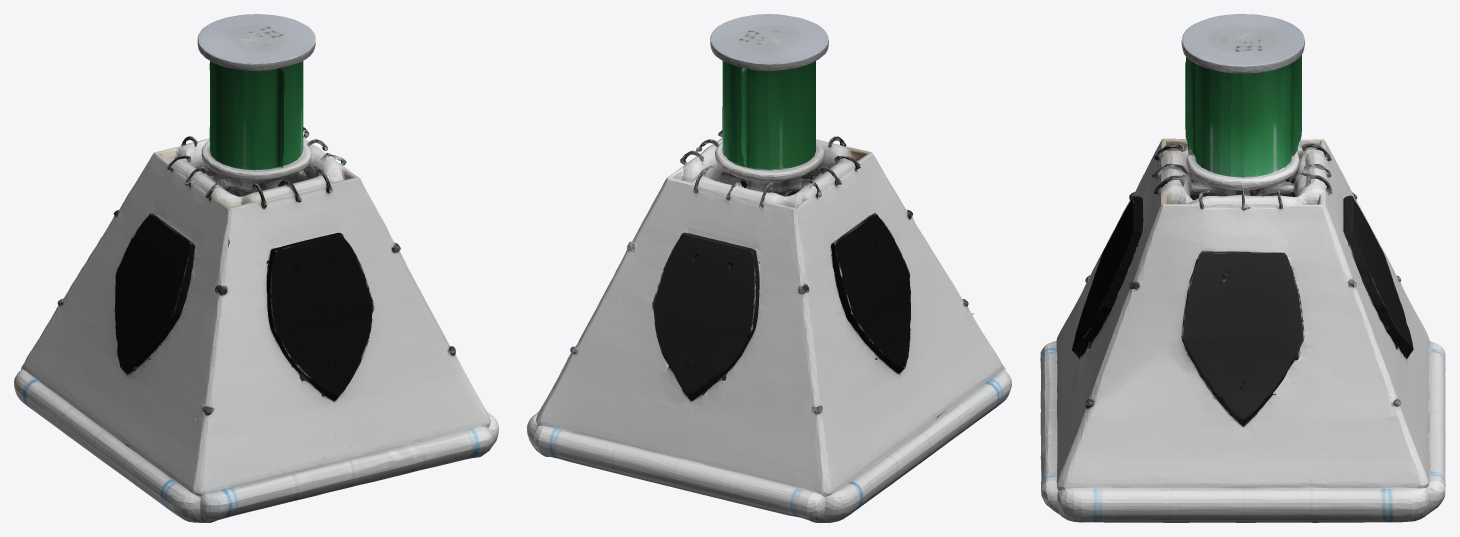
The model's file is bouy_green.glb.
3 views of the same model, side by side, from view 1: azimuth 30°, elevation 25°; view 2: azimuth 150°, elevation 25°; view 3: azimuth 270°, elevation 25° (orthographic). The views are drawn at different scales.
Parts seen in each view (by area): view 1: world; view 2: world; view 3: world.
Boxes of the visible parts, x1,y1,x2,y2 form: world: (14, 14, 498, 522); world: (527, 14, 1011, 522); world: (1040, 14, 1445, 522).
Bounding box in the file's own units: 0.873 × 1 × 0.9008.
1 material, 1 textured.
